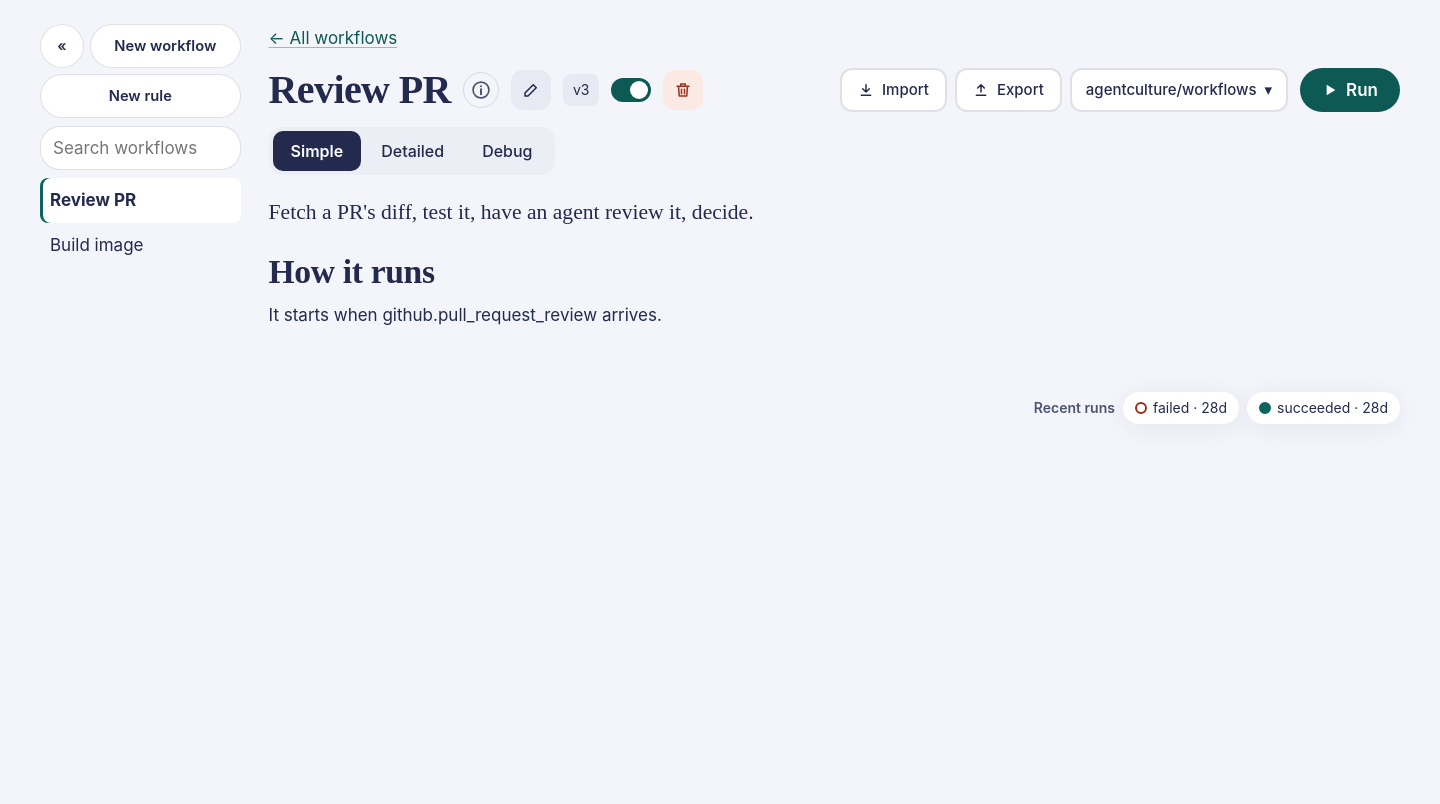
Workflows, folded (t8) › New rule opens the rule form in place of the Rules tab's
Click the button "New rule" at (140, 96), box [40, 74, 241, 118]
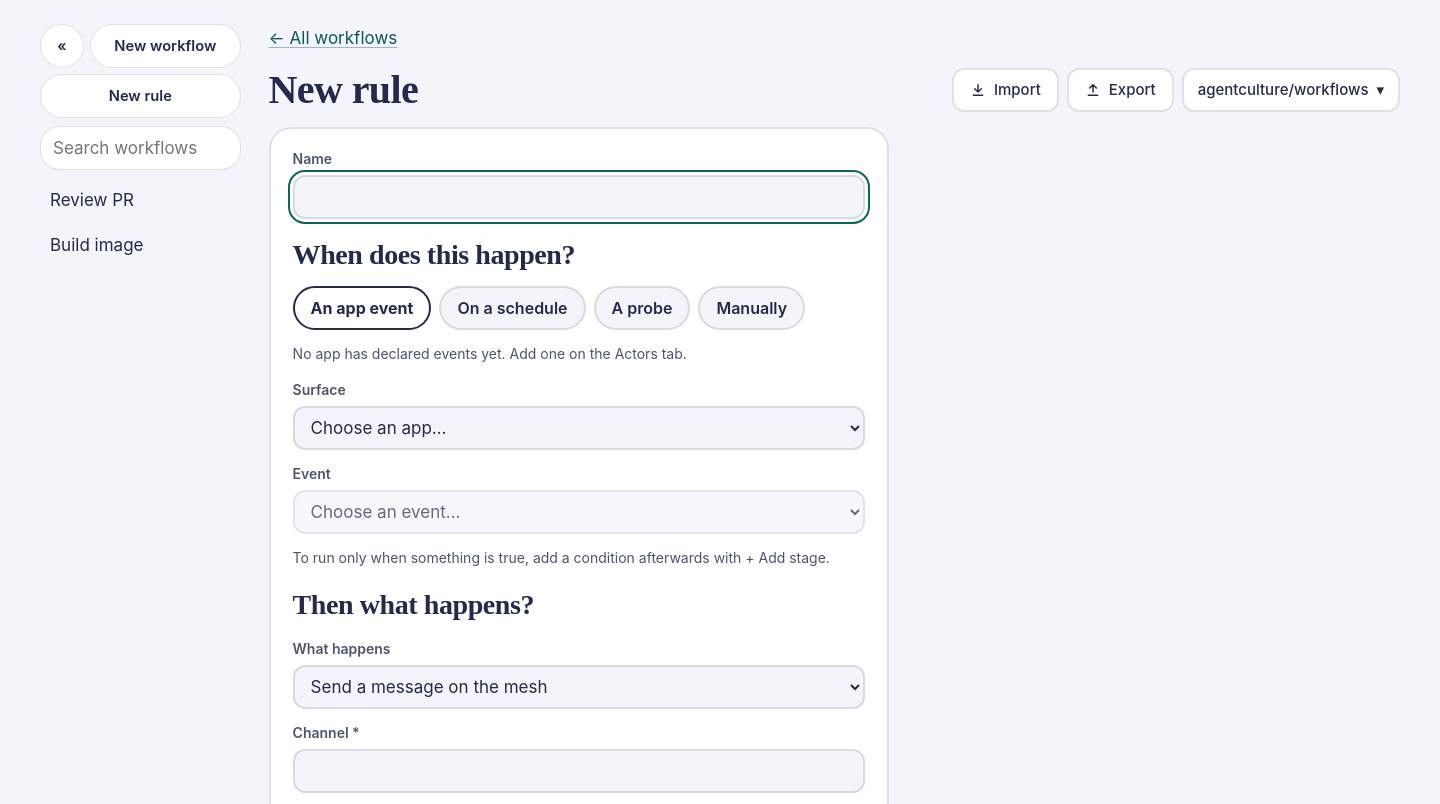
Result: the text "When does this happen?" is shown at [293, 231, 575, 278]
